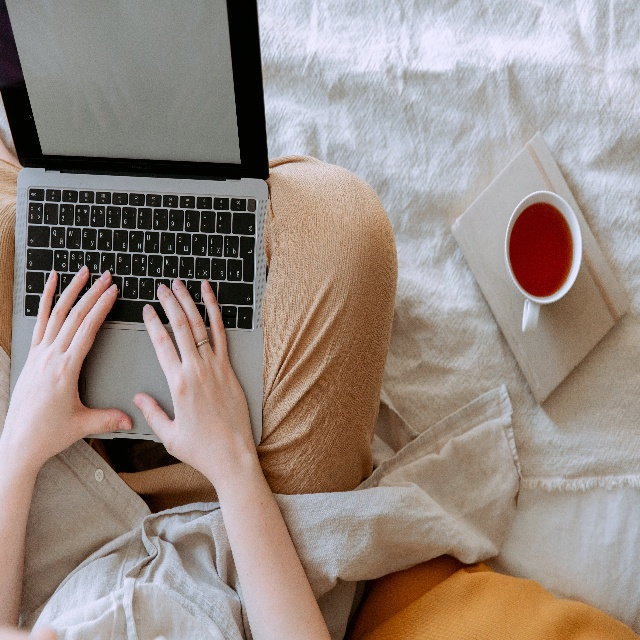Sin_guantes: (3, 265, 134, 461), (133, 276, 252, 483)
